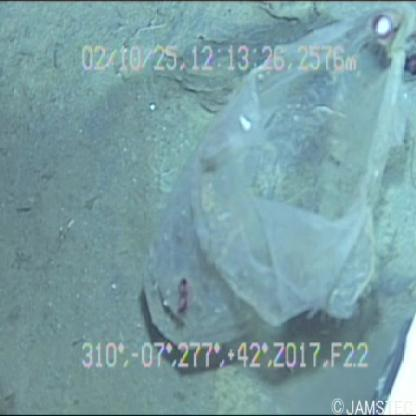Rác: (125, 9, 406, 368)
